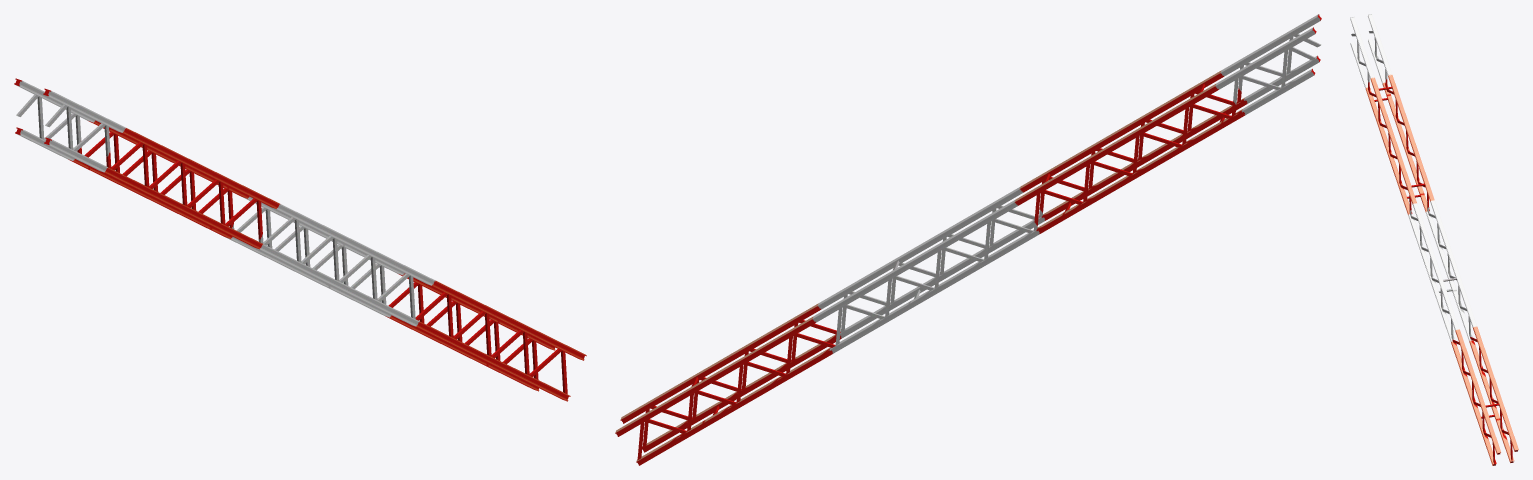
The model's file is kure-n1-arm.obj.
3 renders of one model, left to right at view 1: azimuth 30°, elevation 25°; view 2: azimuth 150°, elevation 25°; view 3: azimuth 270°, elevation 25°, orthographic. The views are drawn at different scales.
Size of the model in its own units: 33.77 by 26.57 by 14.12.
1 material, 1 textured.
